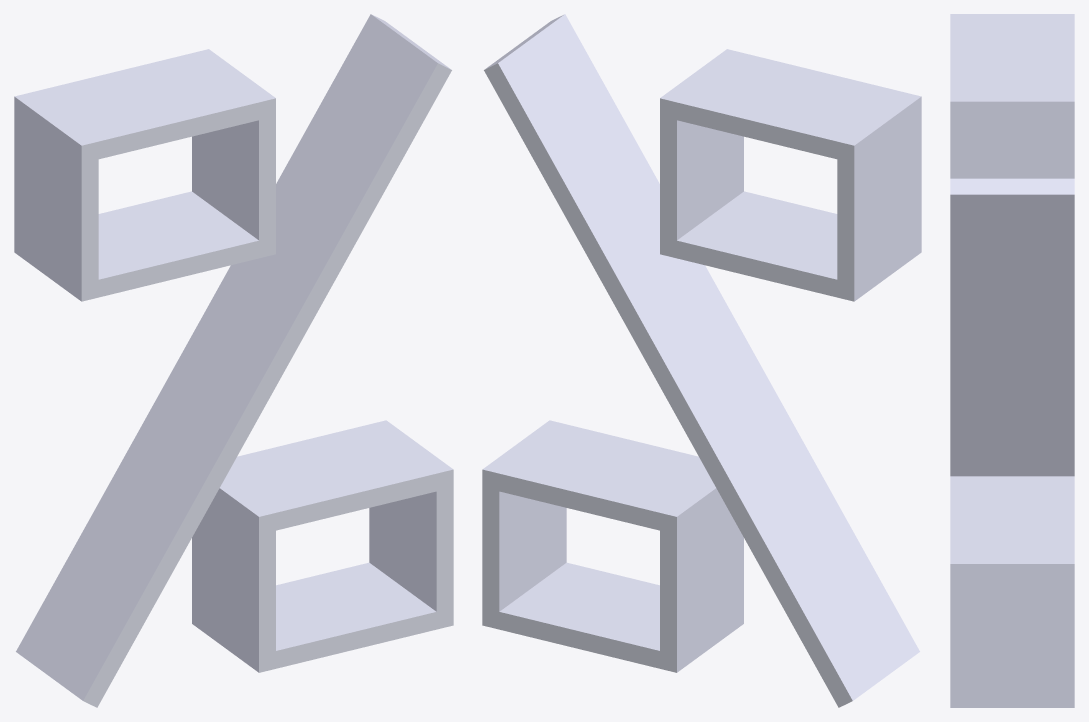
3 renders of one model, left to right at view 1: azimuth 30°, elevation 25°; view 2: azimuth 150°, elevation 25°; view 3: azimuth 270°, elevation 25°, orthographic. The views are drawn at different scales.
Visible parts, largest first — view 1: %_AlphaProta_Grey; view 2: %_AlphaProta_Grey; view 3: %_AlphaProta_Grey.
Boxes of the visible parts, box(x1,y1,x2,y2) form: %_AlphaProta_Grey: box(14, 14, 453, 707); %_AlphaProta_Grey: box(482, 14, 921, 707); %_AlphaProta_Grey: box(950, 14, 1074, 707).
Size of what is drawn, in the model's own units: 0.1436 by 0.2105 by 0.045.
Materials: 2 (2 with a texture image).
